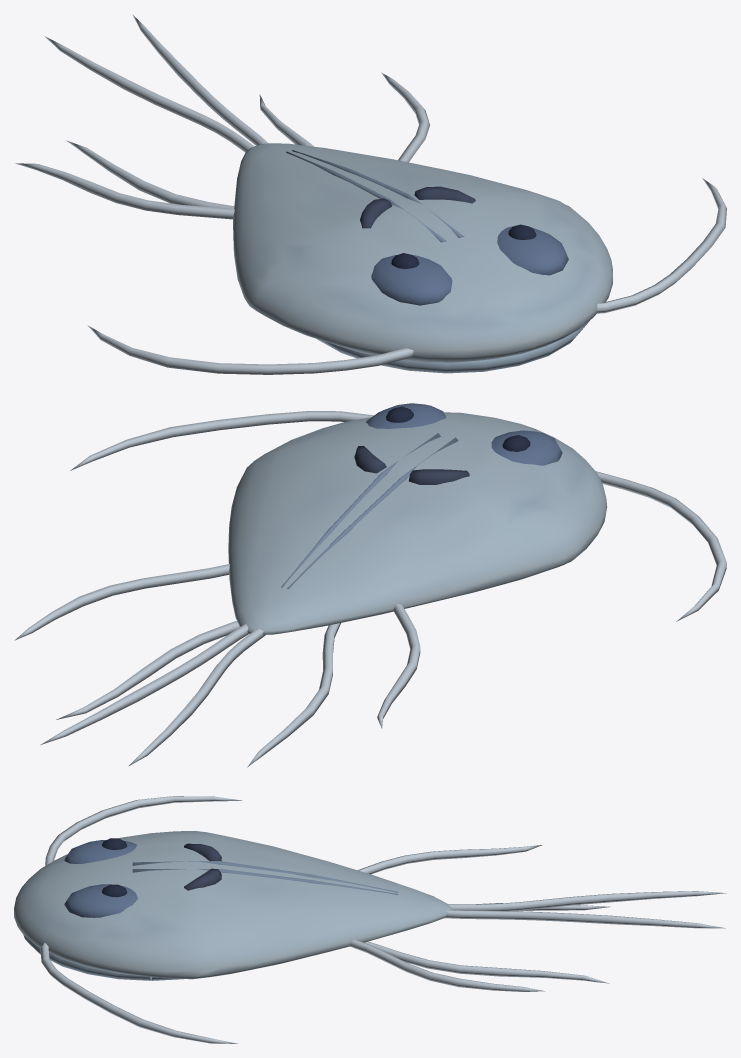
File: Giardia.fbx
The picture shows the model from 3 angles, top to bottom: view 1: azimuth 30°, elevation 25°; view 2: azimuth 150°, elevation 25°; view 3: azimuth 270°, elevation 25°; orthographic projection. The views are drawn at different scales.
Visible parts, largest first — view 1: Giardia; view 2: Giardia; view 3: Giardia.
Part boxes in pixels (x1=…): Giardia: x1=15, y1=14, x2=726, y2=374; Giardia: x1=14, y1=403, x2=726, y2=767; Giardia: x1=14, y1=796, x2=726, y2=1043.
Bounding box in the file's own units: 1.27 × 0.2032 × 1.56.
